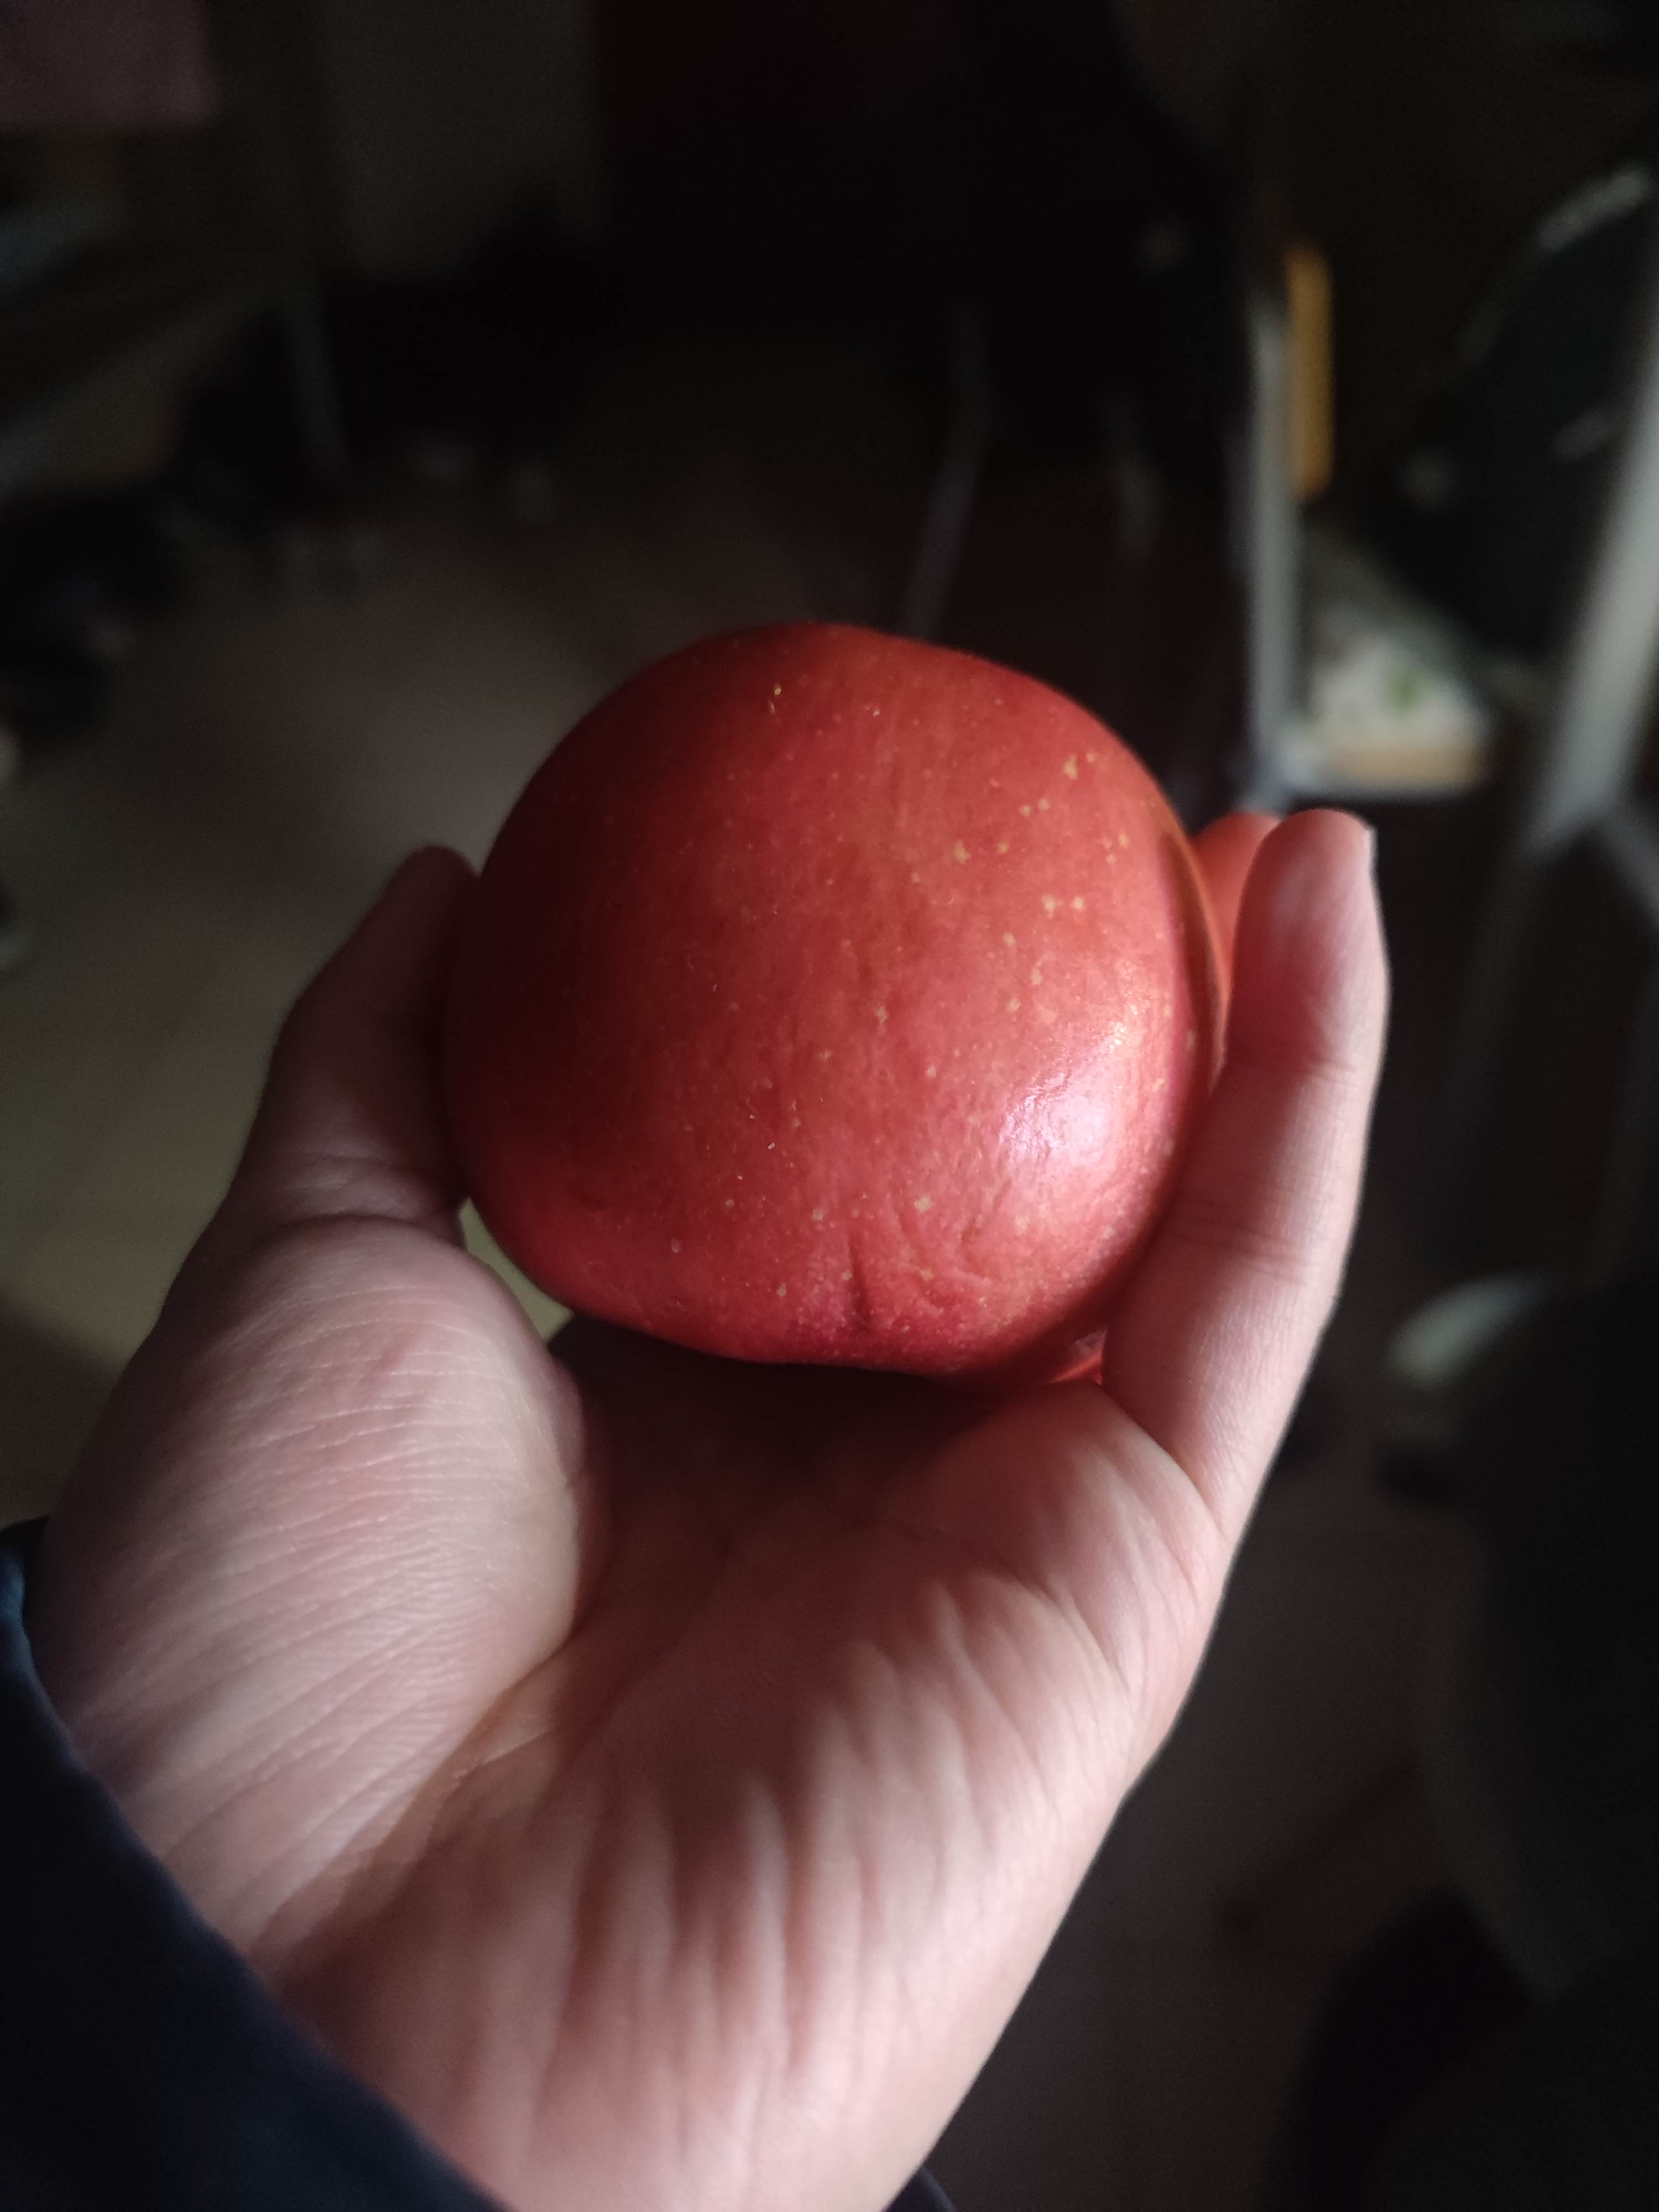apple: (439, 615, 1283, 1390)
